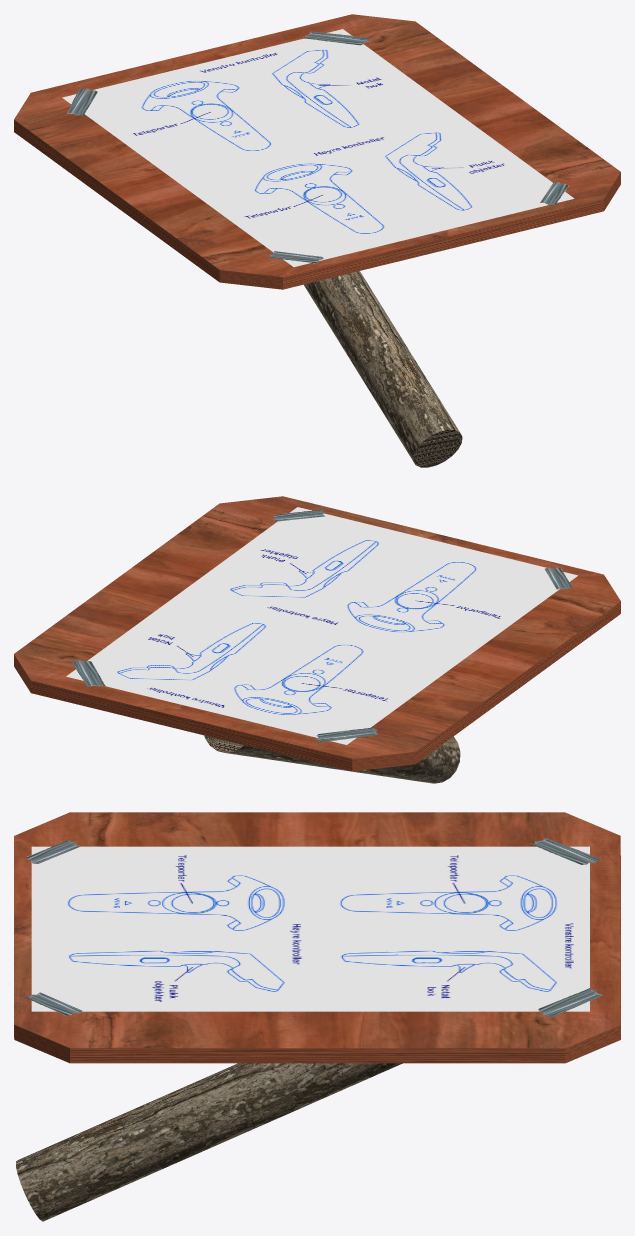
File: Skilt_kontrollers2.FBX
The picture shows the model from 3 angles, top to bottom: view 1: azimuth 30°, elevation 25°; view 2: azimuth 150°, elevation 25°; view 3: azimuth 270°, elevation 25°; orthographic projection. The views are drawn at different scales.
Parts seen in each view (by area): view 1: Skilt; view 2: Skilt; view 3: Skilt.
Boxes of the visible parts, <box> form: Skilt: <box>14,14,620,467</box>; Skilt: <box>14,496,620,783</box>; Skilt: <box>14,812,620,1221</box>.
Size of the model in its own units: 100 by 56.92 by 109.
Materials: 4 (4 with a texture image).
